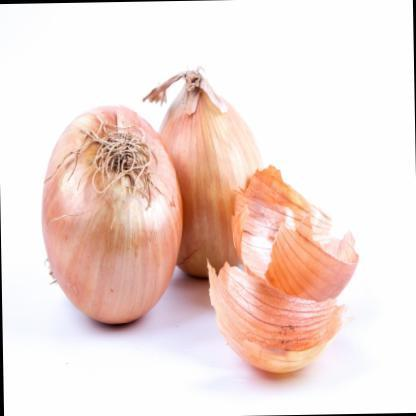onion: (35, 96, 190, 336)
